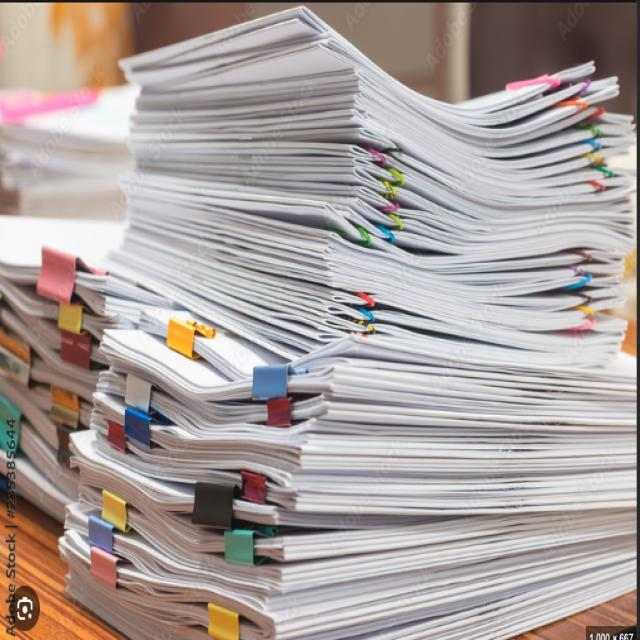KertasBekas: (53, 4, 636, 637)
